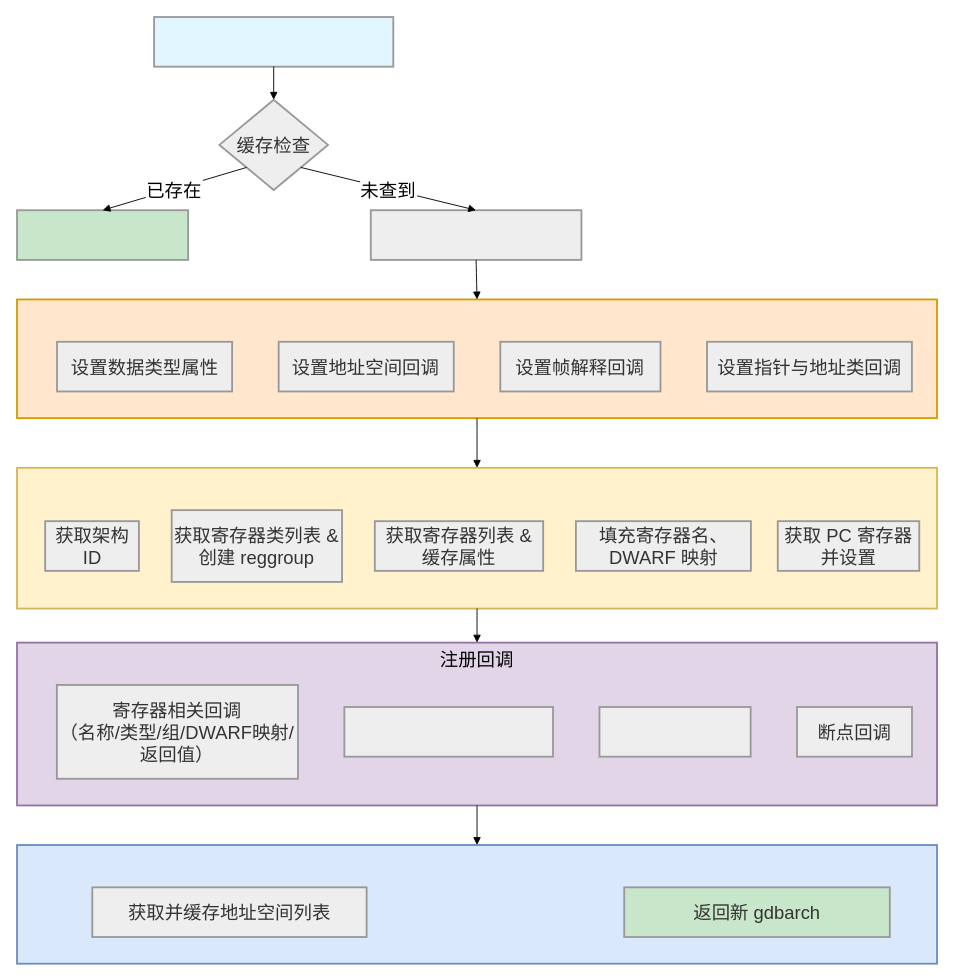
Some shapes in this 953 by 980 pixel diagram are drawn without their labels. Here are the shapes that lost their labels. From the top down, the box of each, then its label:
(153, 16, 394, 67): 开始：swai_gdbarch_init
(16, 209, 189, 260): 返回缓存 gdbarch
(369, 209, 582, 260): 分配新 gdbarch 和 tdep
(16, 298, 937, 419): 基础设置
(16, 466, 937, 609): 与 amd-dbgapi 交互
(343, 706, 553, 757): 反汇编 & 最大指令长度
(598, 706, 751, 757): Lane 调试回调
(16, 844, 937, 964): 地址空间与返回
